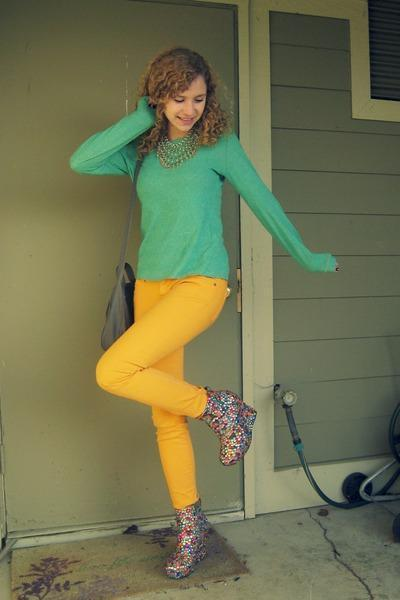bag: (100, 276, 135, 344)
jacket: (70, 108, 336, 280)
pants: (96, 275, 229, 509)
shoe: (166, 384, 256, 571)
